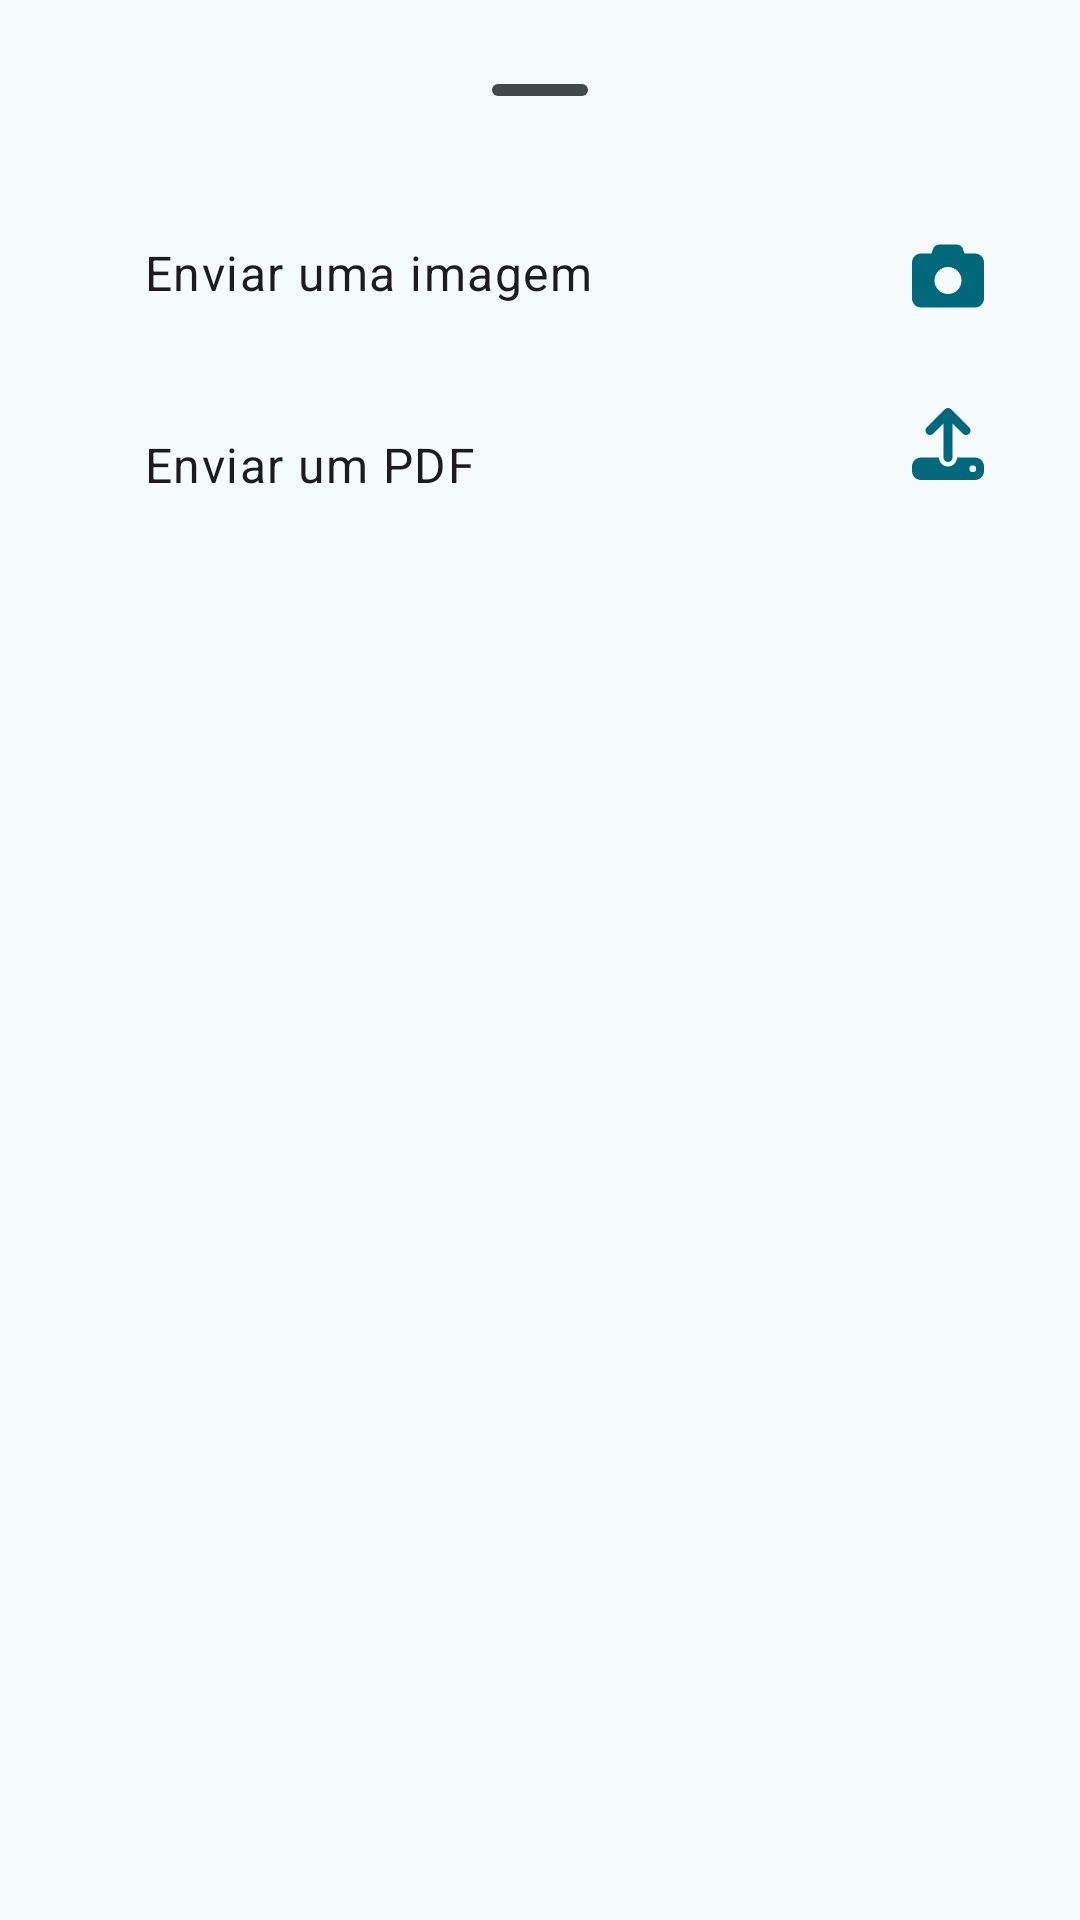

Icons on this 1080×1920 Android screen, each with the point to tap as [x,y]:
camera: [948,276]
upload: [948,444]
